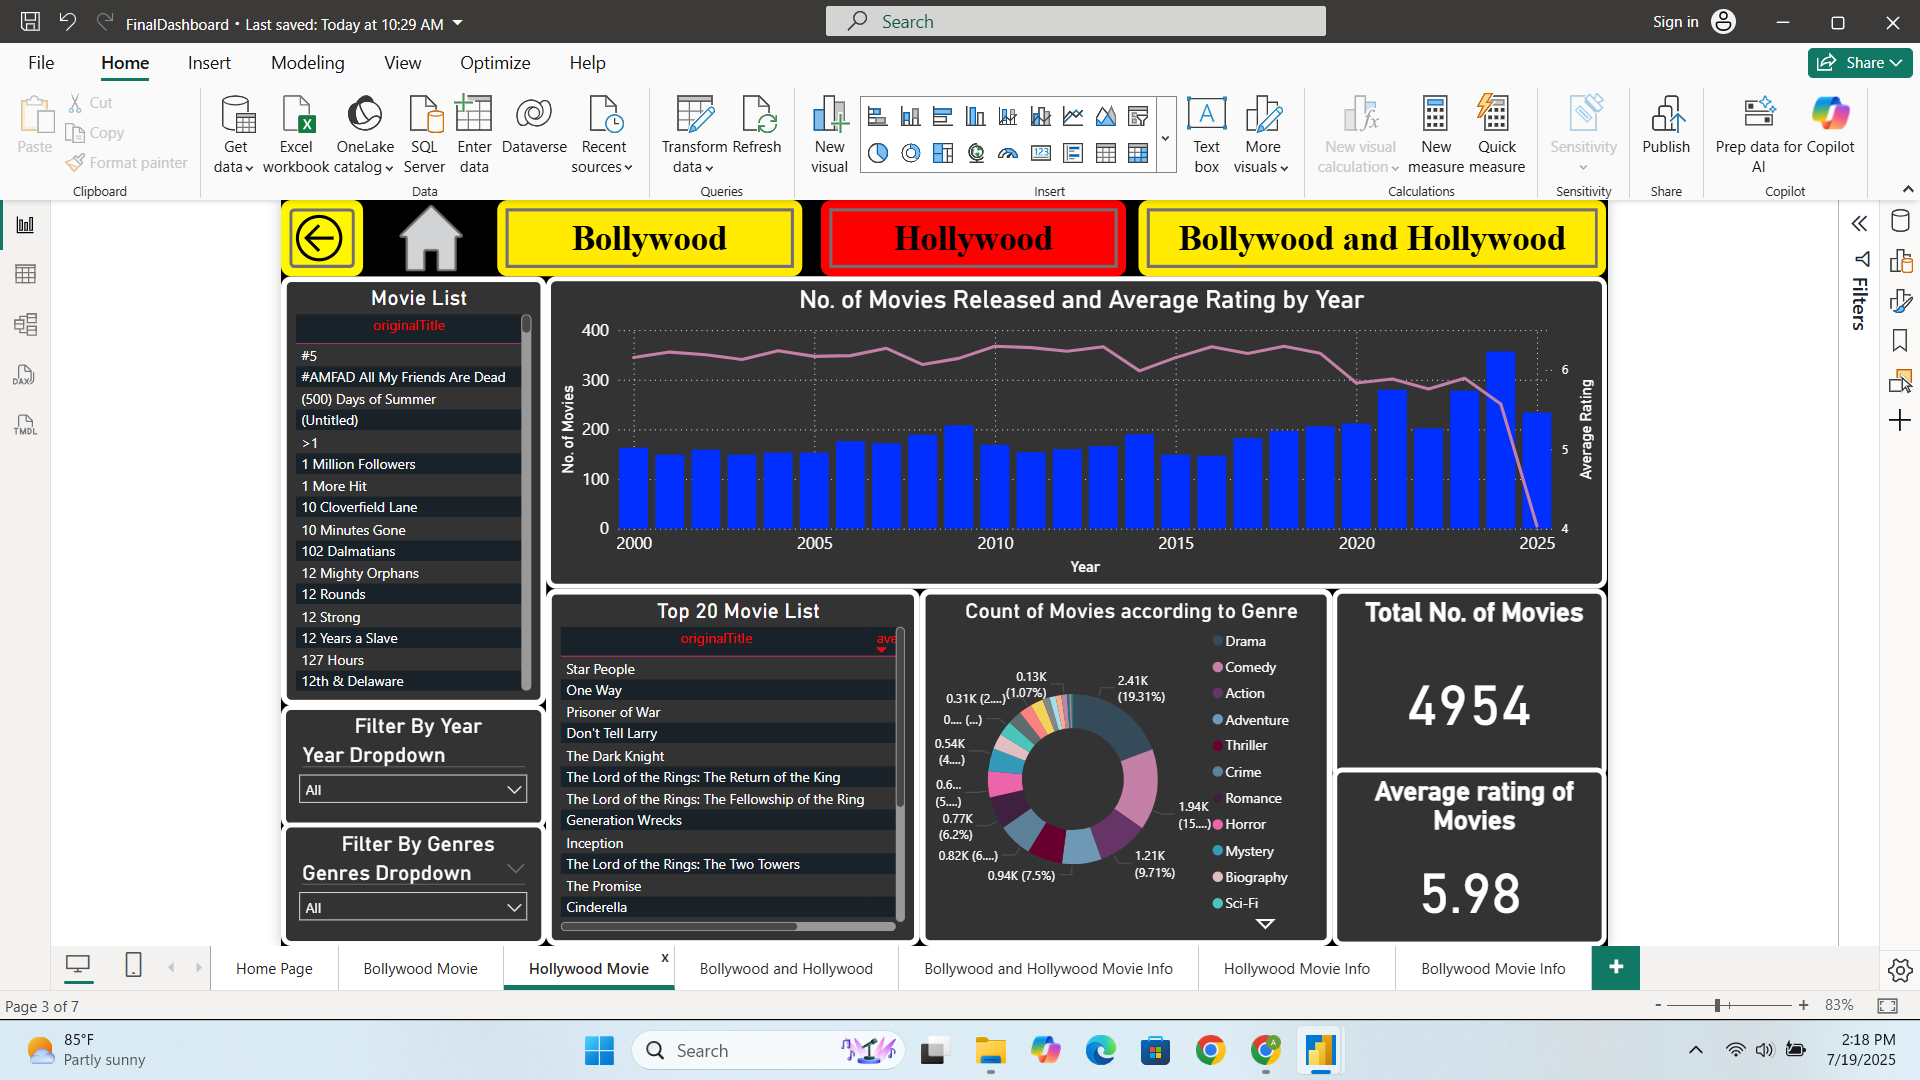

Layout of this report page (visuals, bound fields, positions):
{"tool":"powerbi","page":{"name":"Hollywood Movie","canvas":[1280,720],"ordinal":2},"visuals":[{"type":"card","title":"Total No. of Movies","fields":{"Values":["Hollywood_allDataMerged.HollyCountRows"]},"box":[1014.7,374.8,265,183.5],"z":0},{"type":"card","title":"Average rating of Movies","fields":{"Values":["Hollywood_allDataMerged.HollyAverageRating"]},"box":[1014.7,547.3,265,172.5],"z":1000},{"type":"lineStackedColumnComboChart","title":"No. of Movies Released and Average Rating by Year","fields":{"Category":["Hollywood_allDataMerged.startYear"],"Y":["CountNonNull(Hollywood_allDataMerged.tconst)"],"Y2":["Hollywood_allDataMerged.HollyAverageRating"]},"box":[255.4,73.6,1024.4,301.5],"z":2000},{"type":"donutChart","title":"Count of Movies according to Genre","fields":{"Category":["HollyGenre.Genre"],"Y":["CountNonNull(HollyGenre.tconst)"]},"box":[616.3,374.8,398.3,345],"z":3000},{"type":"slicer","title":"Filter By Year","fields":{"Values":["Hollywood_allDataMerged.startYear"]},"box":[0,487.7,255.6,119.2],"z":4000},{"type":"slicer","title":"Filter By Genres","fields":{"Values":["HollyGenre.Genre"]},"box":[0,600.6,255.6,119.2],"z":5000},{"type":"tableEx","title":"Movie List","fields":{"Values":["Hollywood_allDataMerged.originalTitle"]},"box":[0,73.7,255.6,414],"z":6000},{"type":"tableEx","title":"Top 20 Movie List","fields":{"Values":["Hollywood_allDataMerged.originalTitle","Hollywood_allDataMerged.averageRating","Hollywood_allDataMerged.startYear"]},"box":[255.6,374.8,360.7,345],"z":7000},{"type":"actionButton","box":[209.2,0,294.3,73.6],"z":8000},{"type":"actionButton","box":[520.8,0,294.3,73.6],"z":9000},{"type":"actionButton","box":[828.1,0,451.6,73.6],"z":10000},{"type":"actionButton","box":[0,0,79.4,73.6],"z":11000},{"type":"image","box":[90.9,0,108.2,73.6],"z":11001}]}

Visuals, with their boxes on the page's 1280x720 design canvas (x1, y1, x2, y2). These are canvas units, not pixel positions in the 1920x1080 screenshot, which may show the page scaled, cropped or inside an application window:
"Total No. of Movies" card: l=1015, t=375, r=1280, b=558
"Average rating of Movies" card: l=1015, t=547, r=1280, b=720
"No. of Movies Released and Average Rating by Year" lineStackedColumnComboChart: l=255, t=74, r=1280, b=375
"Count of Movies according to Genre" donutChart: l=616, t=375, r=1015, b=720
"Filter By Year" slicer: l=0, t=488, r=256, b=607
"Filter By Genres" slicer: l=0, t=601, r=256, b=720
"Movie List" tableEx: l=0, t=74, r=256, b=488
"Top 20 Movie List" tableEx: l=256, t=375, r=616, b=720
actionButton: l=209, t=0, r=504, b=74
actionButton: l=521, t=0, r=815, b=74
actionButton: l=828, t=0, r=1280, b=74
actionButton: l=0, t=0, r=79, b=74
image: l=91, t=0, r=199, b=74
